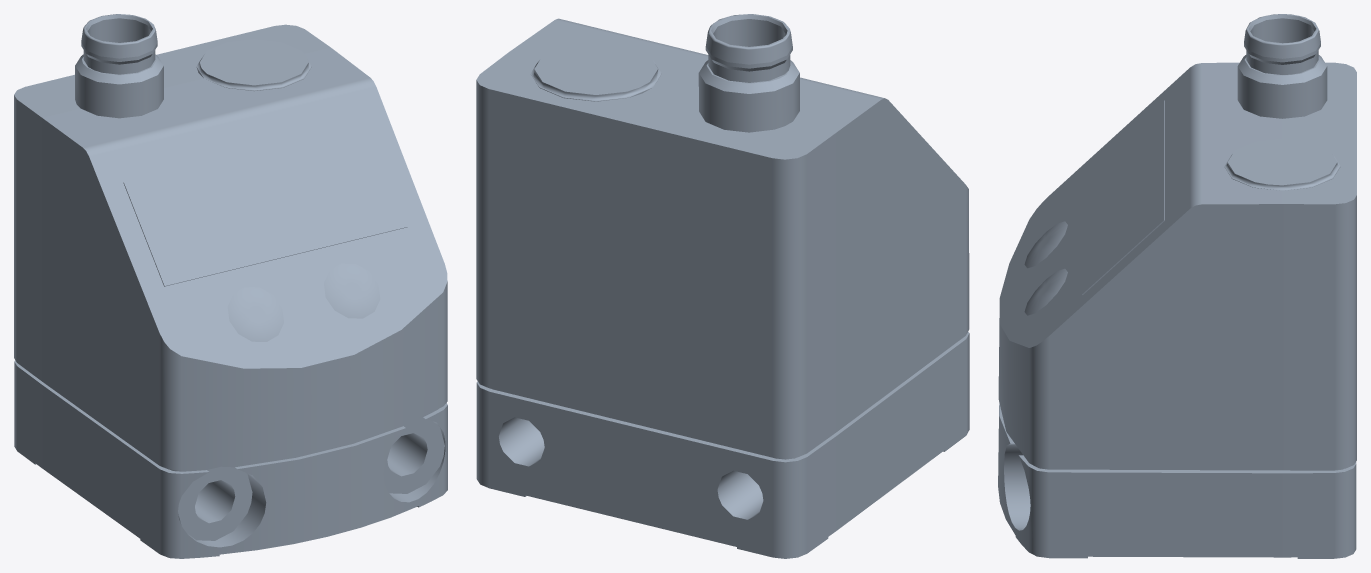
The model's file is cad_stp_500_0132.obj.
3 views of the same model, side by side, from view 1: azimuth 30°, elevation 25°; view 2: azimuth 150°, elevation 25°; view 3: azimuth 270°, elevation 25° (orthographic). The views are drawn at different scales.
Visible parts, largest first — view 1: 1; view 2: 1; view 3: 1.
Part boxes in pixels (box(x1,y1,x2,y2)): 1: box(14, 14, 447, 558); 1: box(476, 14, 969, 558); 1: box(998, 14, 1356, 558).
Bounding box in the file's own units: 30 × 41.97 × 32.05.
